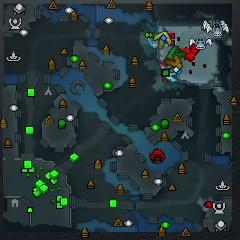x2: (155, 31, 171, 50)
x3: (165, 65, 182, 83)
x4: (166, 46, 186, 61)
x5: (164, 54, 182, 73)
